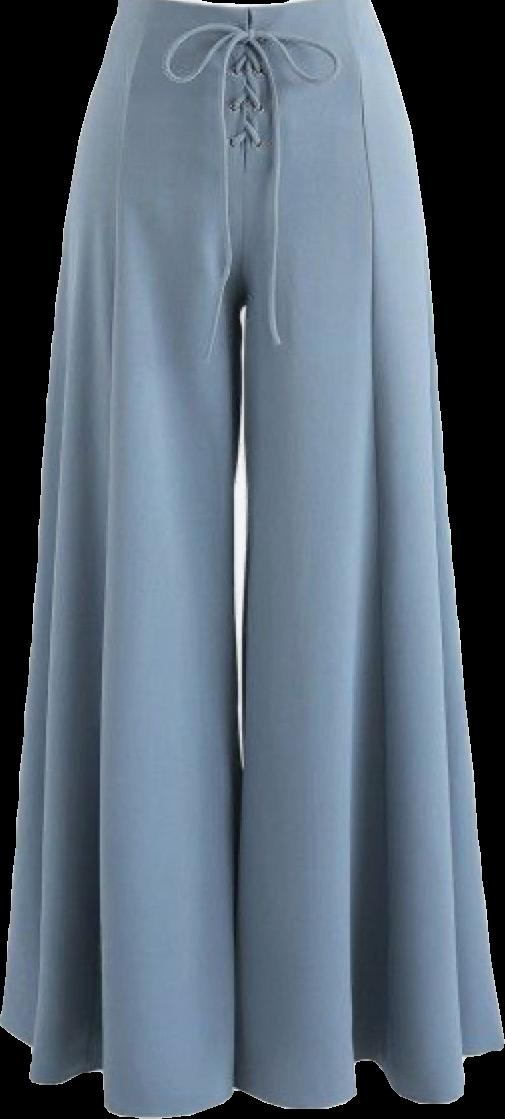Hemline: (0, 1012, 244, 1116), (243, 1040, 504, 1118)
Pantleg: (243, 0, 504, 1107), (0, 0, 247, 1116)
Waistline: (118, 0, 376, 20)
